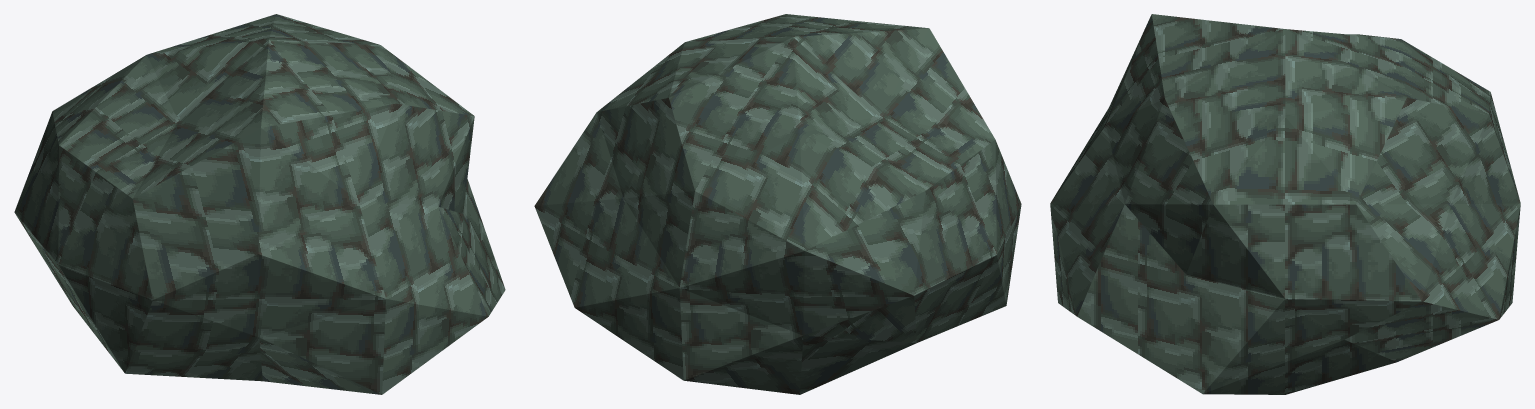
File: boulder_l.glb
3 views of the same model, side by side, from view 1: azimuth 30°, elevation 25°; view 2: azimuth 150°, elevation 25°; view 3: azimuth 270°, elevation 25° (orthographic). The views are drawn at different scales.
Visible parts, largest first — view 1: boulder_l; view 2: boulder_l; view 3: boulder_l.
Boxes of the visible parts, bbox=[...] form: boulder_l: bbox=[14, 14, 505, 394]; boulder_l: bbox=[534, 14, 1021, 394]; boulder_l: bbox=[1050, 14, 1520, 394].
Size of the model in its own units: 2.3 by 1.78 by 2.27.
1 material, 1 textured.
